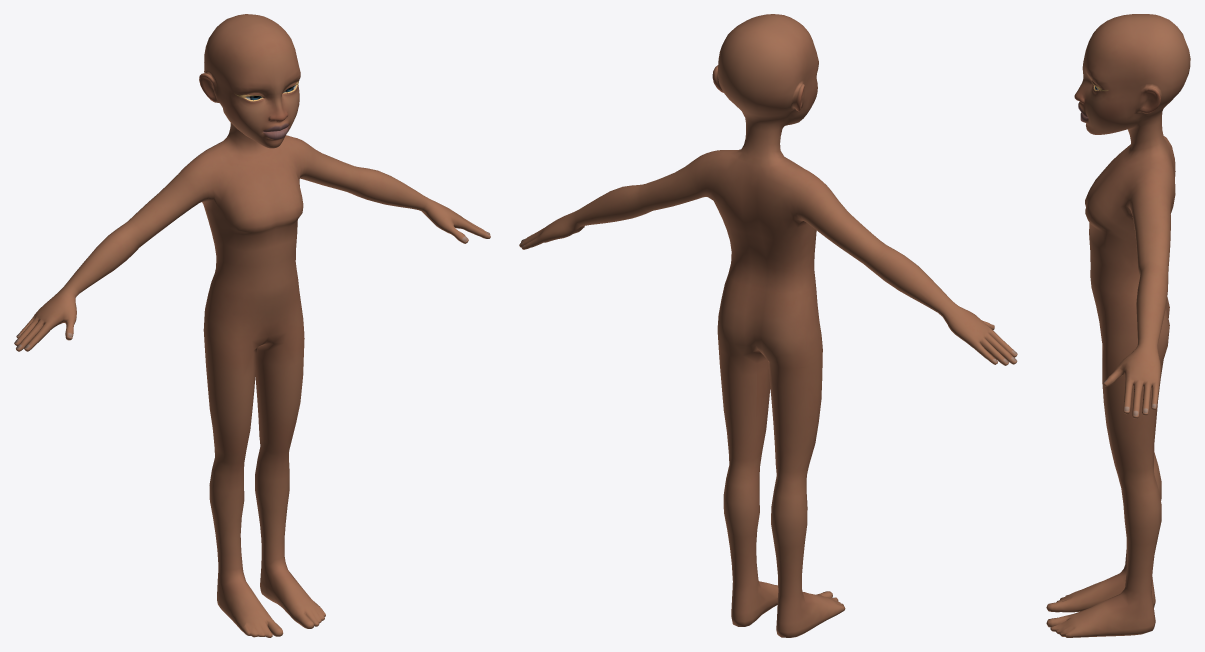
File: frame_0084.glb
The picture shows the model from 3 angles, left to right: view 1: azimuth 30°, elevation 25°; view 2: azimuth 150°, elevation 25°; view 3: azimuth 270°, elevation 25°; orthographic projection. The views are drawn at different scales.
Visible parts, largest first — view 1: frame_0084_head_geo; view 2: frame_0084_head_geo; view 3: frame_0084_head_geo.
Boxes of the visible parts, x1=… form: frame_0084_head_geo: x1=14, y1=14, x2=490, y2=637; frame_0084_head_geo: x1=519, y1=14, x2=1017, y2=637; frame_0084_head_geo: x1=1046, y1=14, x2=1190, y2=637.
Size of the model in its own units: 1.28 by 1.5 by 0.3253.
3 materials, 3 textured.
